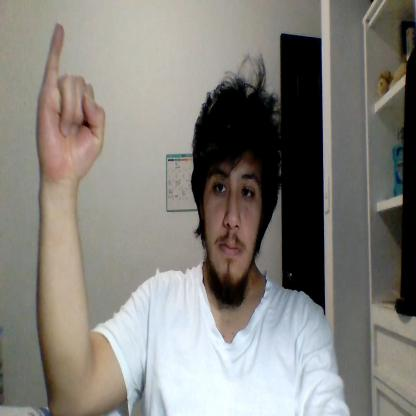I: (36, 22, 105, 183)
